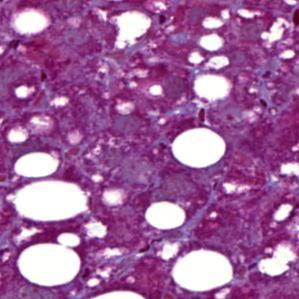steatosis: (10, 179, 93, 223), (17, 239, 87, 287), (165, 248, 240, 291), (173, 126, 230, 165), (143, 198, 190, 229)
